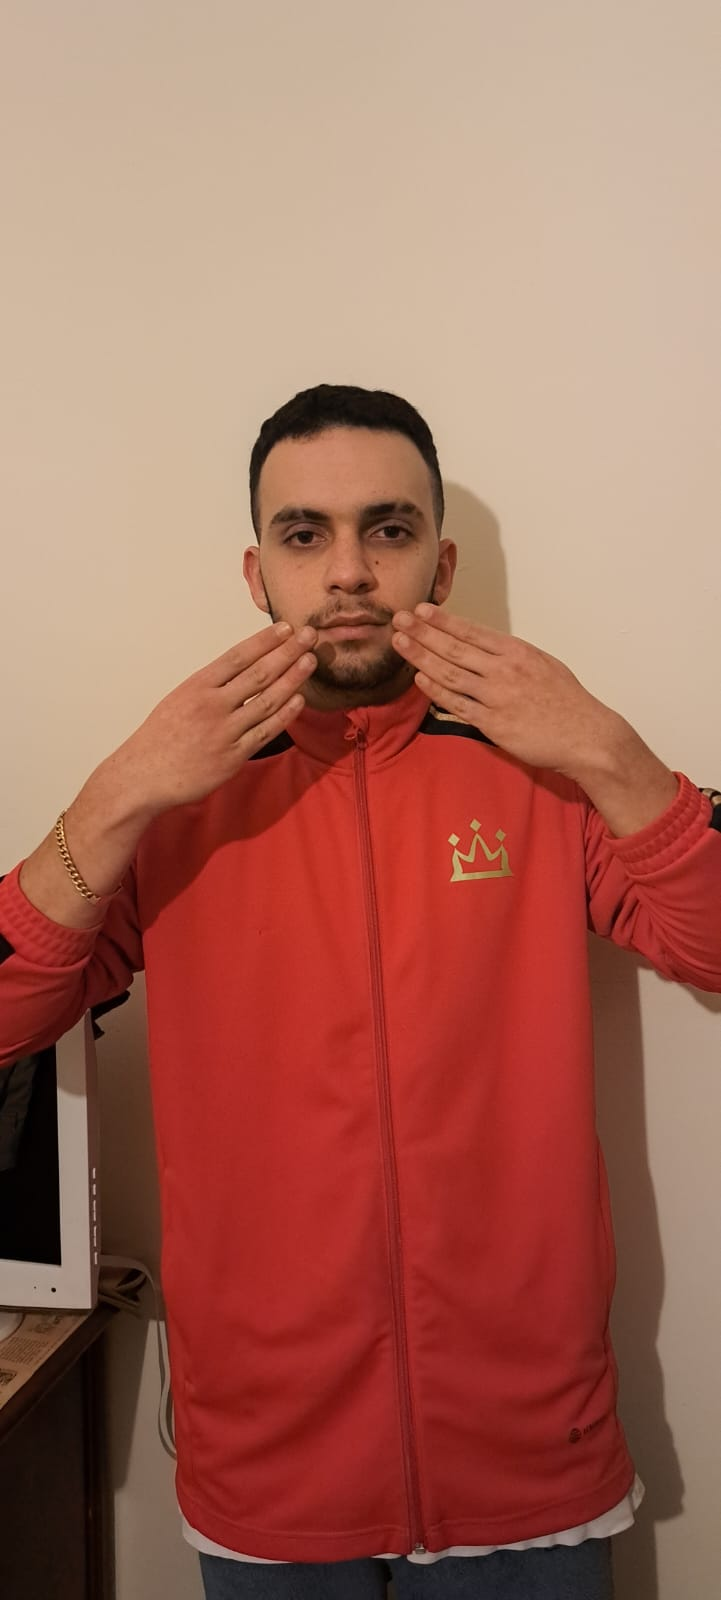grazie: (124, 600, 598, 821)
